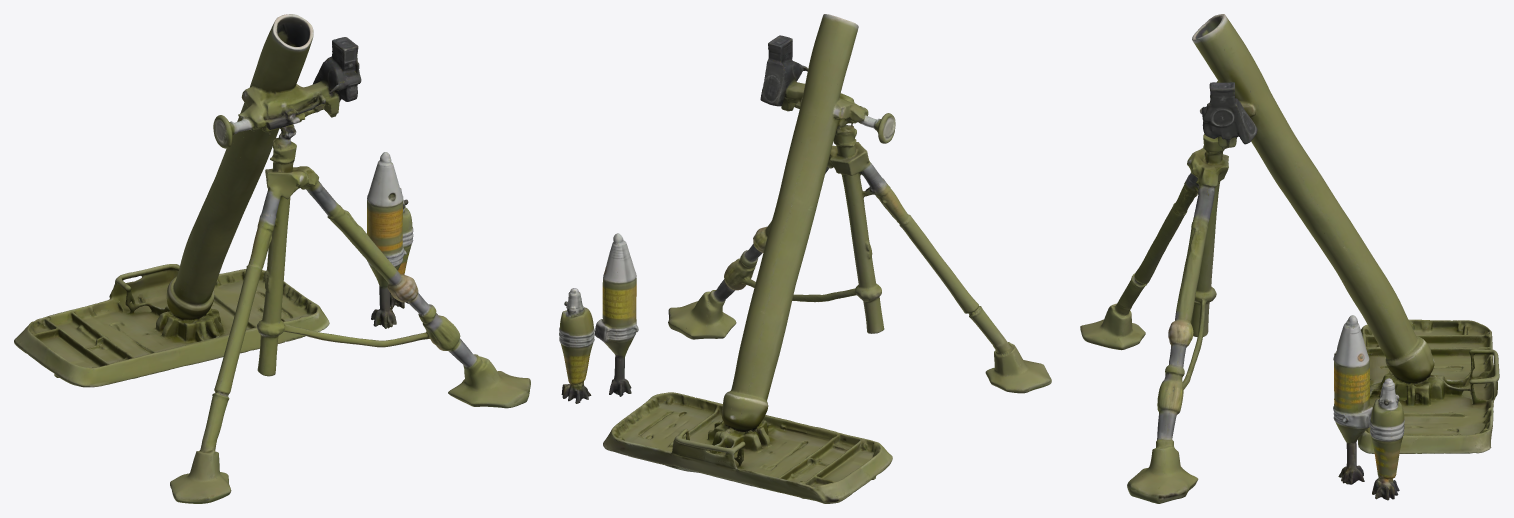
File: Mortar.glb
The picture shows the model from 3 angles, left to right: view 1: azimuth 30°, elevation 25°; view 2: azimuth 150°, elevation 25°; view 3: azimuth 270°, elevation 25°; orthographic projection. The views are drawn at different scales.
Bounding box in the file's own units: 2 × 2 × 1.96.
Materials: 1 (1 with a texture image).
